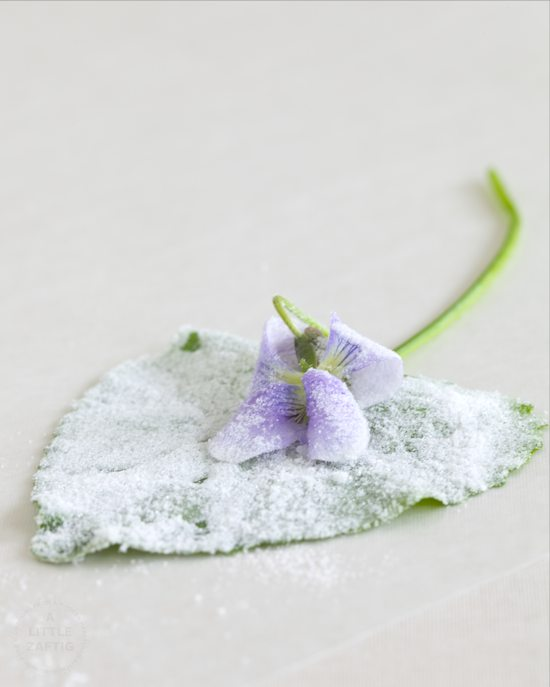violet: (217, 321, 413, 471)
